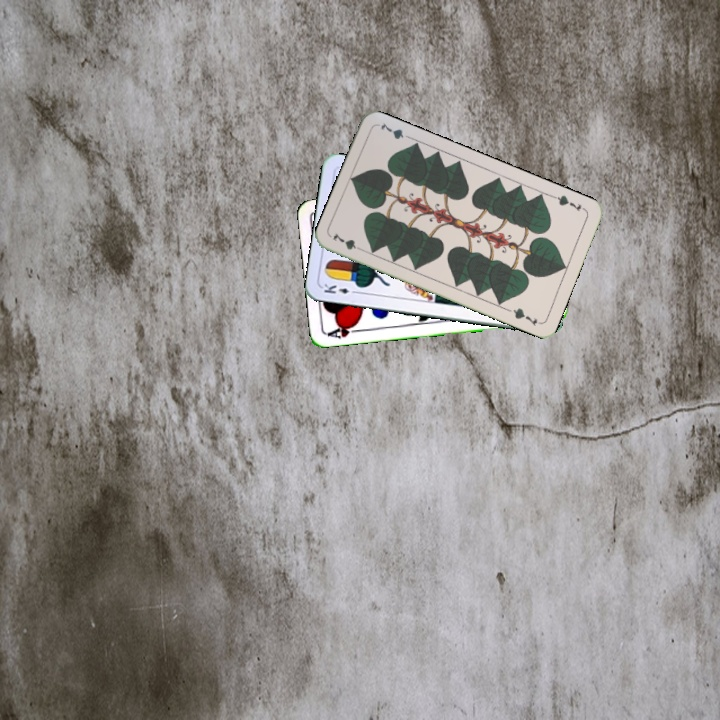EK: (320, 280, 360, 296)
G7: (328, 229, 367, 255), (549, 191, 588, 214)
HA: (324, 320, 365, 341)
